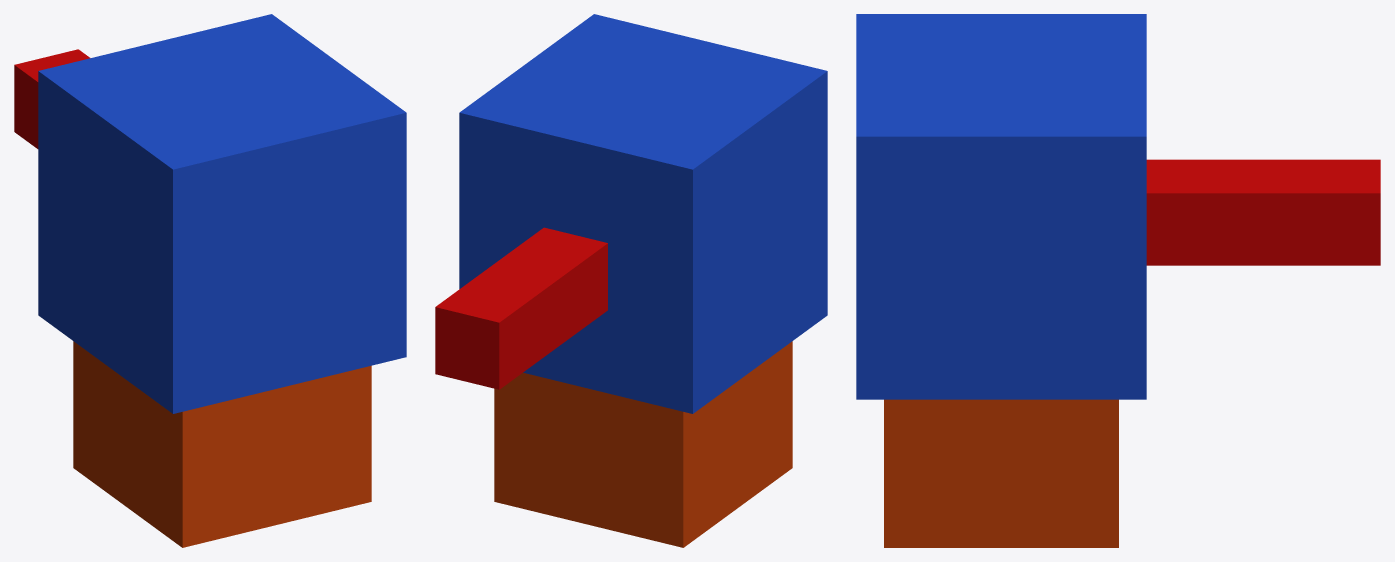
Rendered from Turret.obj.
The picture shows the model from 3 angles, left to right: view 1: azimuth 30°, elevation 25°; view 2: azimuth 150°, elevation 25°; view 3: azimuth 270°, elevation 25°; orthographic projection. The views are drawn at different scales.
Visible parts, largest first — view 1: Cube.001, Cube, Cube.002; view 2: Cube.001, Cube, Cube.002; view 3: Cube.001, Cube, Cube.002.
Part boxes in pixels (x1=…): Cube.001: x1=38, y1=14, x2=406, y2=413; Cube: x1=73, y1=341, x2=371, y2=547; Cube.002: x1=14, y1=49, x2=90, y2=148; Cube.001: x1=459, y1=14, x2=827, y2=413; Cube: x1=494, y1=341, x2=792, y2=547; Cube.002: x1=435, y1=227, x2=607, y2=389; Cube.001: x1=856, y1=14, x2=1146, y2=399; Cube: x1=884, y1=399, x2=1118, y2=547; Cube.002: x1=1146, y1=159, x2=1380, y2=265.
Size of the model in its own units: 0.8015 by 1.29 by 1.45.
